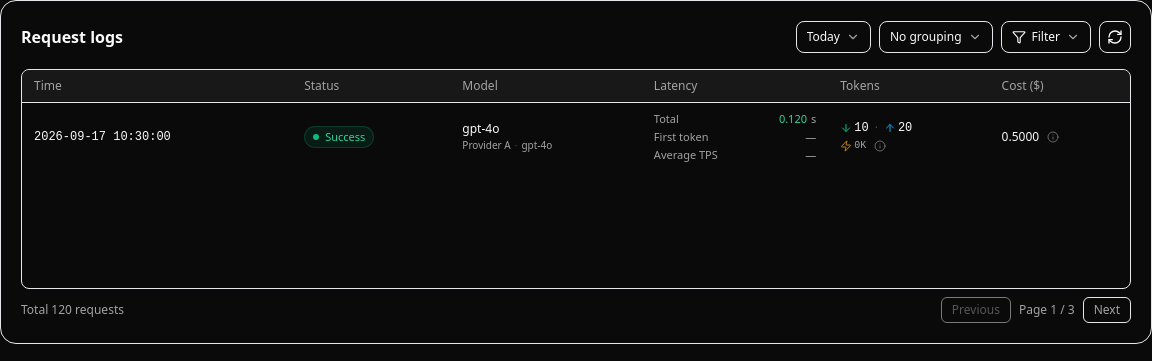
UsageLogsPanel › 默认今日、不分组并以第 1 页取数，切换范围回到第 1 页
Step 1. Click the button with test id "ai-gateway-logs-range-trigger" → (833, 37), box [796,21,871,53]
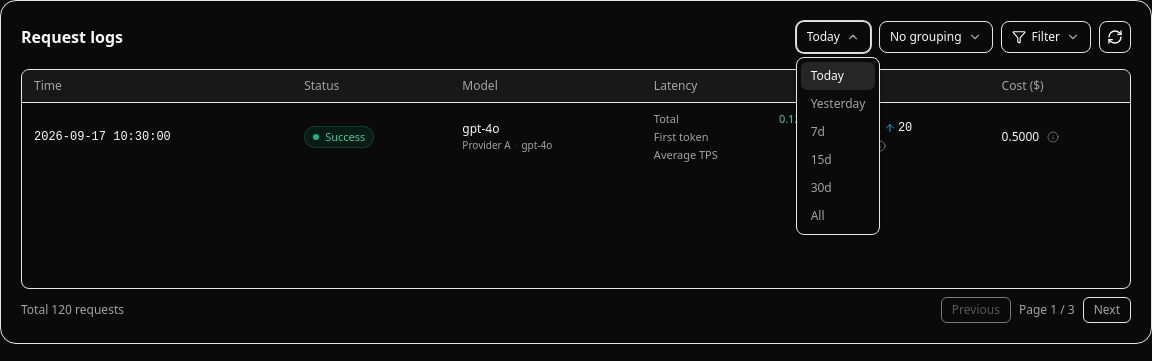
Step 2. Click the option "30d" → (838, 188), box [801,174,875,202]
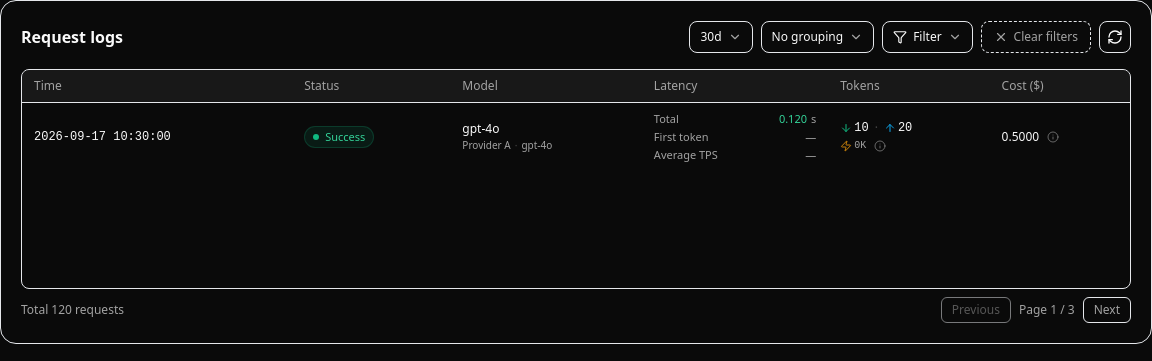
Now the button with test id "ai-gateway-logs-range-trigger" reads "30d", box [690,21,753,53]
